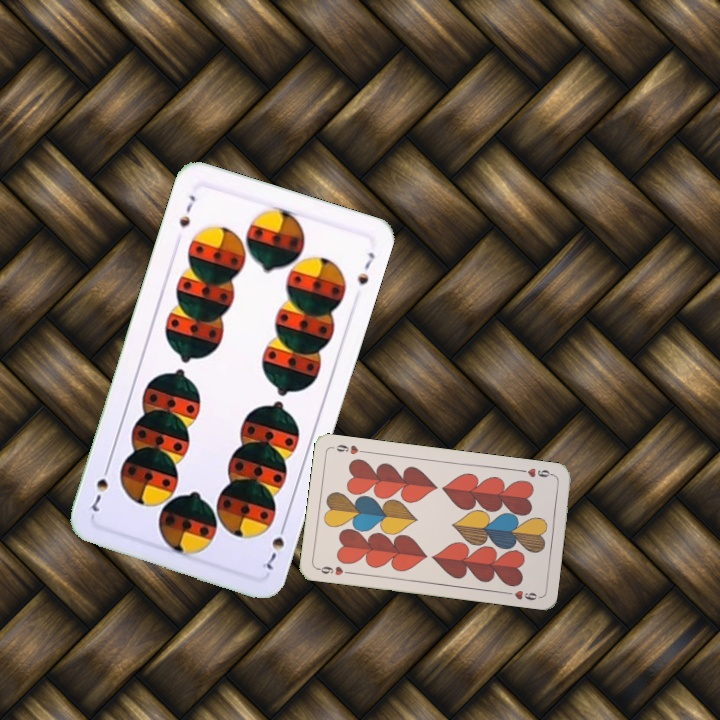H9: (314, 562, 354, 578), (516, 464, 556, 480)
S7: (262, 518, 289, 572), (175, 190, 198, 230)
